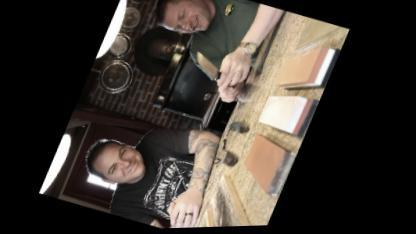knife: (178, 44, 248, 104)
